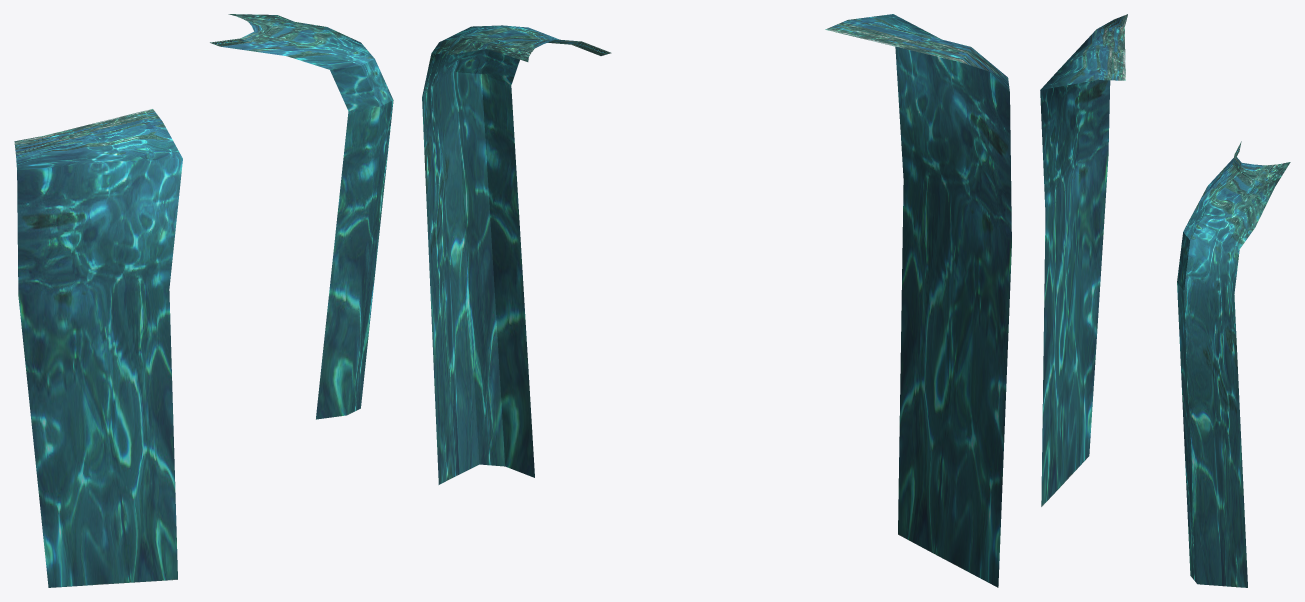
File: Mine_shanti01shui1_2.FBX
3 renders of one model, left to right at view 1: azimuth 30°, elevation 25°; view 2: azimuth 150°, elevation 25°; view 3: azimuth 270°, elevation 25°, orthographic. The views are drawn at different scales.
Visible parts, largest first — view 1: Plane006; view 2: Plane006; view 3: Plane006.
Boxes of the visible parts, box(x1,y1,x2,y2) form: Plane006: box(14, 14, 393, 587); Plane006: box(422, 14, 1011, 587); Plane006: box(1040, 14, 1290, 587).
Bounding box in the file's own units: 10601 × 10657 × 5557.
1 material, 1 textured.
